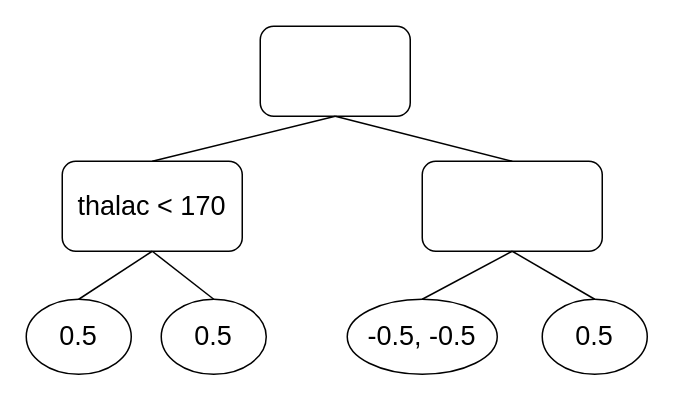
Image size: 674x401. Some labels were removed from this diagram. Each missing label, with the centre of its shape:
cp = 3: pixel 334 70
thalac < 188: pixel 511 205
